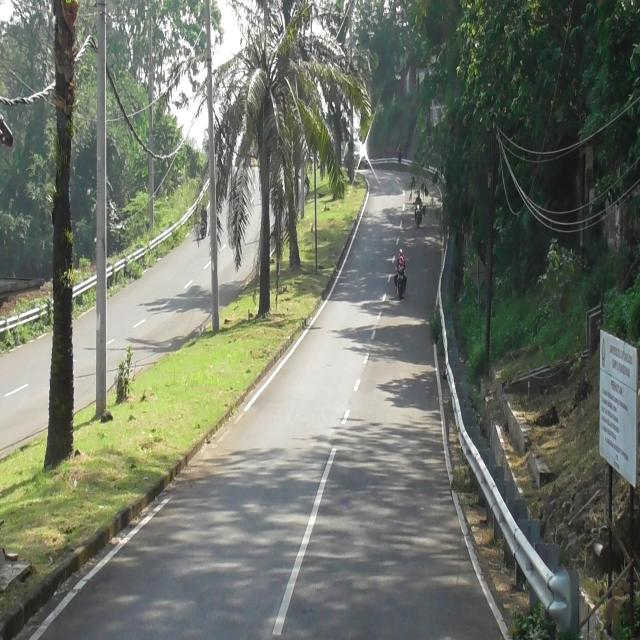motorcycle: (397, 265, 404, 300), (415, 203, 421, 229)
person: (396, 249, 406, 272), (415, 190, 423, 206), (399, 257, 404, 264)
rider_region: (394, 248, 406, 296), (414, 191, 423, 231)
